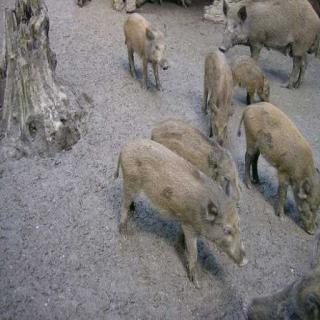Pig: (111, 122, 247, 314), (225, 89, 320, 238), (163, 89, 240, 199), (219, 0, 320, 70), (108, 0, 171, 79), (204, 41, 238, 135), (232, 41, 272, 111)
